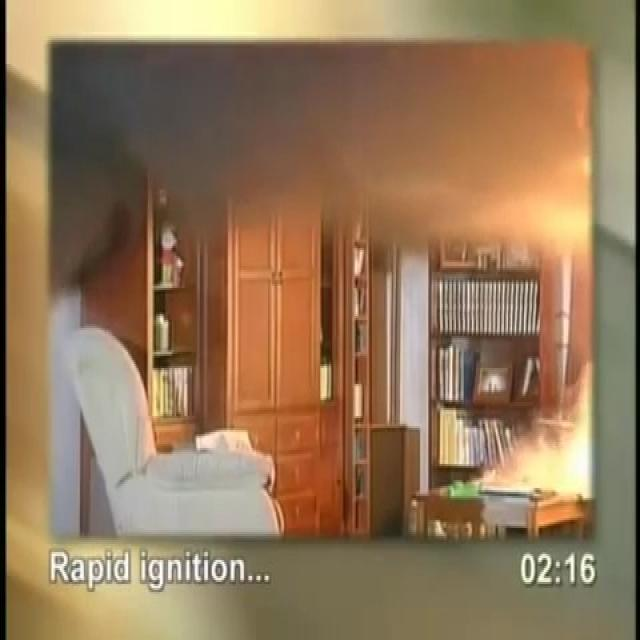Fire: (150, 49, 600, 308)
